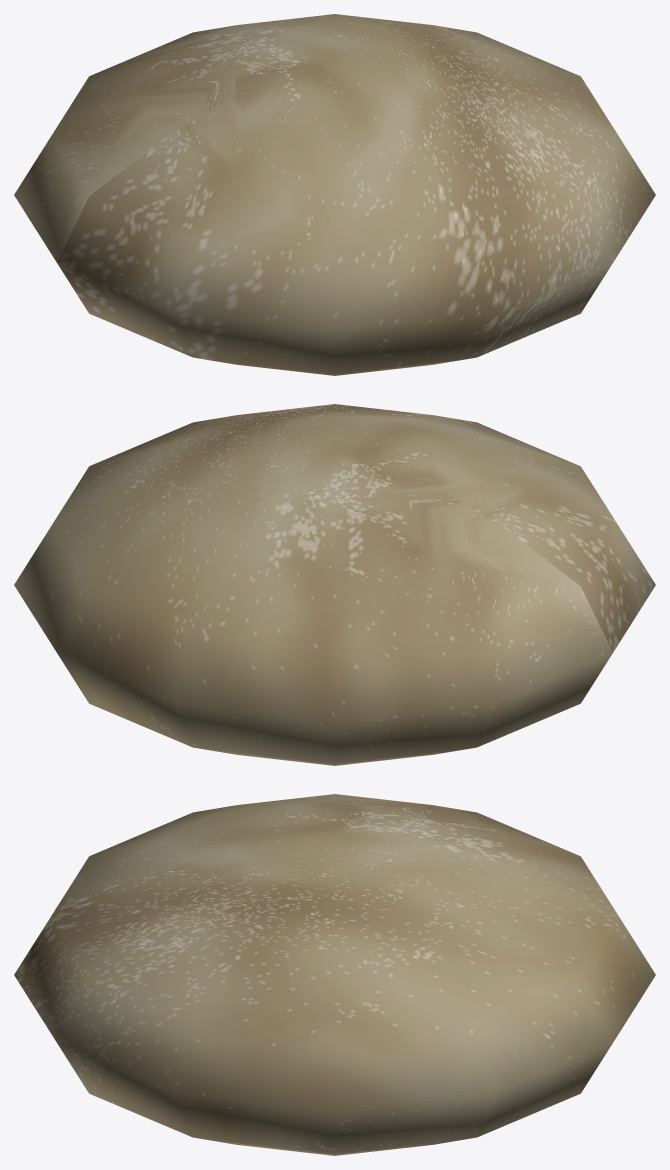
The model's file is rising_dough.fbx.
3 views of the same model, one above another, from view 1: azimuth 30°, elevation 25°; view 2: azimuth 150°, elevation 25°; view 3: azimuth 270°, elevation 25° (orthographic).
Visible parts, largest first — view 1: Dough; view 2: Dough; view 3: Dough.
Boxes of the visible parts, x1,y1,x2,y2 form: Dough: (14,14,655,375); Dough: (14,404,655,765); Dough: (14,794,655,1155).
Size of the model in its own units: 127 by 59.88 by 127.
Materials: 1 (1 with a texture image).
